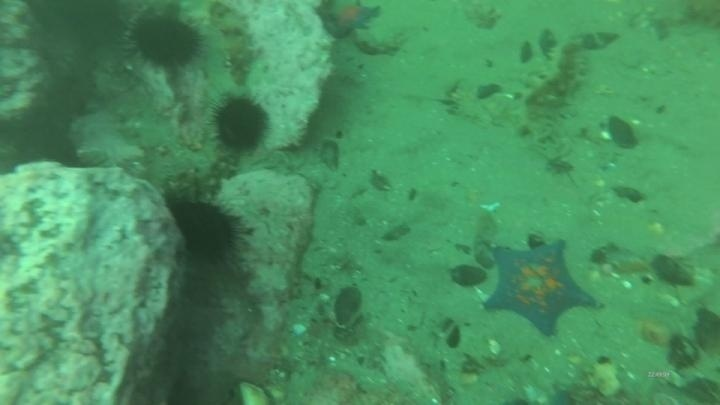echinus: (165, 194, 245, 265), (126, 11, 205, 72), (209, 92, 272, 154)
holothurian: (520, 37, 589, 111), (213, 4, 258, 88)
starfish: (478, 237, 603, 340), (317, 1, 383, 40)
